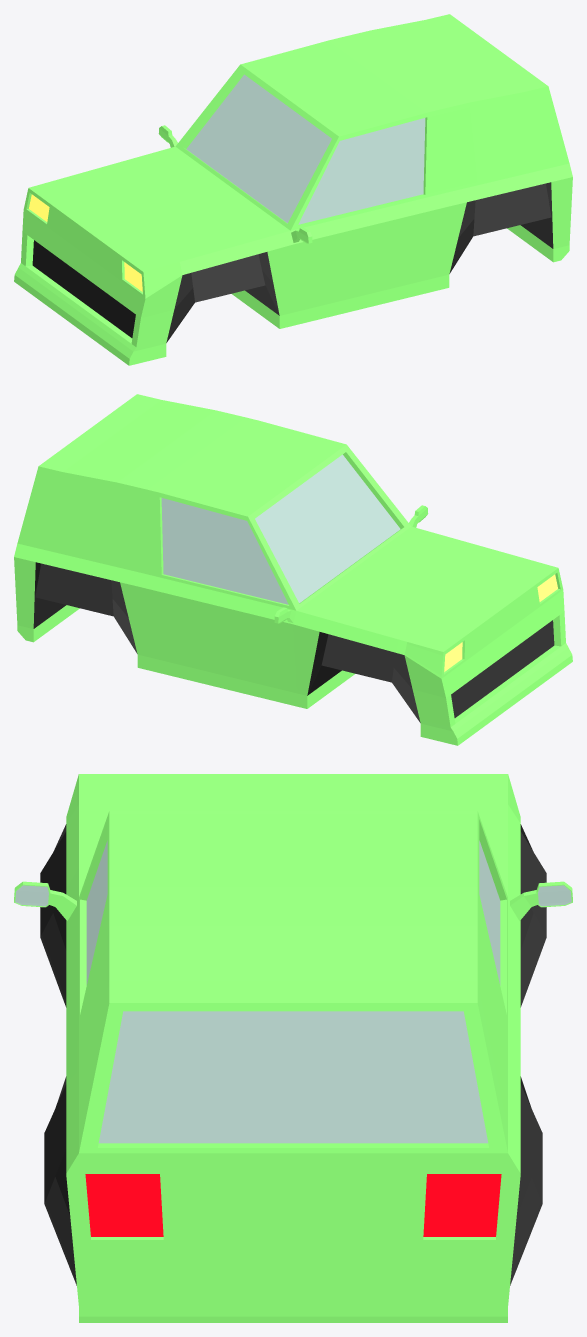
The model's file is body.dae.
The picture shows the model from 3 angles, top to bottom: view 1: azimuth 30°, elevation 25°; view 2: azimuth 150°, elevation 25°; view 3: azimuth 270°, elevation 25°; orthographic projection. The views are drawn at different scales.
Visible parts, largest first — view 1: body; view 2: body; view 3: body.
Boxes of the visible parts, x1,y1,x2,y2 form: body: (14,14,572,365); body: (14,394,572,745); body: (14,774,572,1322).
Bounding box in the file's own units: 4.96 × 2.92 × 1.86.
